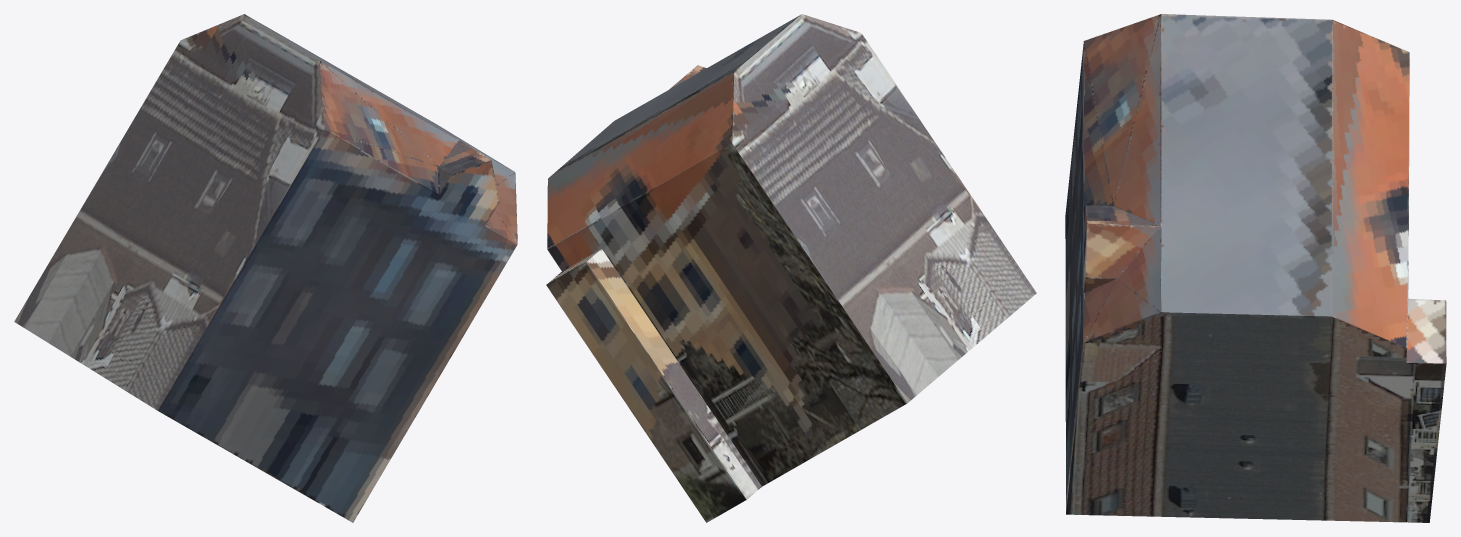
3 renders of one model, left to right at view 1: azimuth 30°, elevation 25°; view 2: azimuth 150°, elevation 25°; view 3: azimuth 270°, elevation 25°, orthographic. The views are drawn at different scales.
Parts seen in each view (by area): view 1: BAG_0599100000688758 (×4); view 2: BAG_0599100000688758 (×4); view 3: BAG_0599100000688758 (×4).
Part boxes in pixels (x1,y1,x2,y2): BAG_0599100000688758 (×4): [14, 14, 517, 522]; BAG_0599100000688758 (×4): [546, 14, 1036, 522]; BAG_0599100000688758 (×4): [1065, 14, 1446, 522].
Bounding box in the file's own units: 15.55 × 16.27 × 10.86.
Materials: 5 (5 with a texture image).
